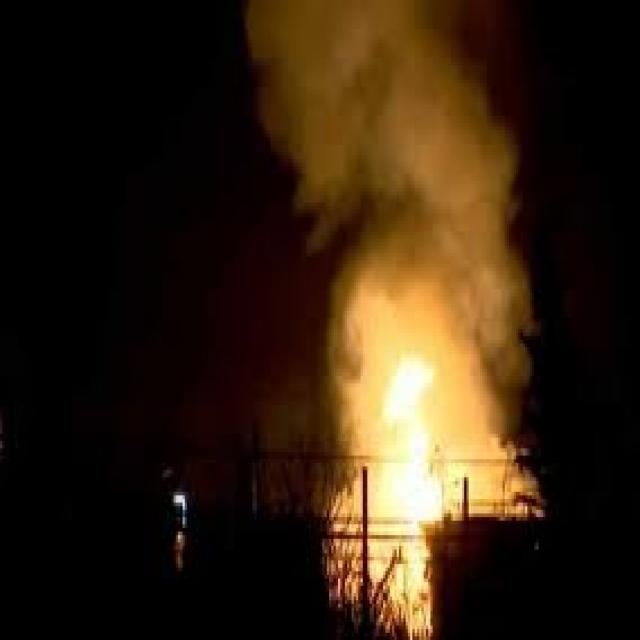smoke: (245, 4, 540, 340), (311, 343, 547, 640)
